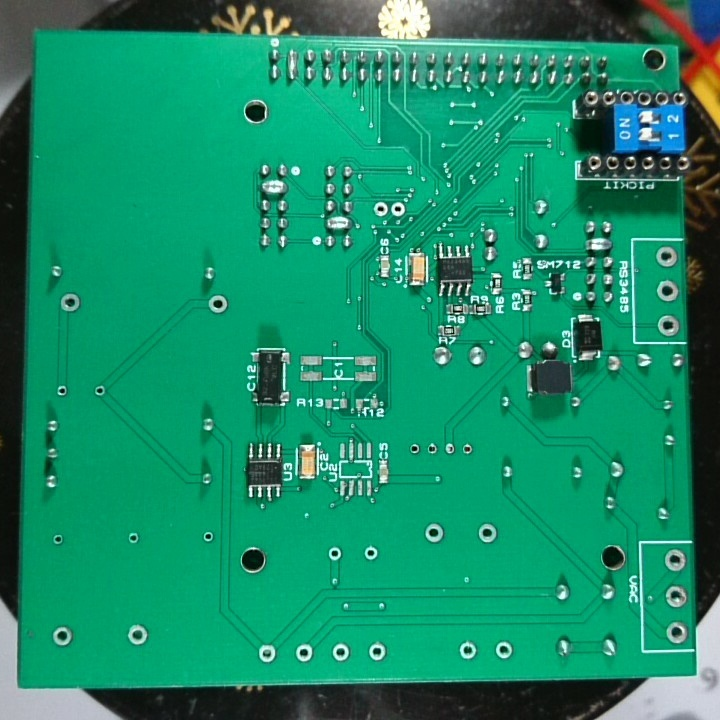F: (49, 623, 79, 652), (661, 546, 690, 575), (654, 309, 681, 340), (663, 583, 689, 612), (125, 621, 150, 650), (665, 620, 692, 646), (422, 520, 448, 547), (55, 289, 82, 315), (656, 278, 681, 306), (475, 519, 500, 546), (655, 245, 680, 271), (493, 638, 516, 663), (206, 292, 228, 318), (292, 641, 315, 665), (361, 542, 384, 566), (330, 640, 353, 663), (256, 642, 279, 664), (367, 639, 387, 663), (458, 638, 478, 661), (371, 196, 390, 219), (324, 543, 345, 563), (390, 200, 408, 222), (50, 531, 70, 550), (458, 437, 474, 459), (90, 382, 110, 399), (53, 383, 73, 399), (408, 440, 423, 461), (424, 439, 439, 460), (441, 438, 456, 459), (125, 529, 142, 547), (200, 529, 216, 547)
P: (323, 213, 354, 234), (259, 176, 290, 196), (284, 48, 300, 86), (583, 235, 616, 253)
